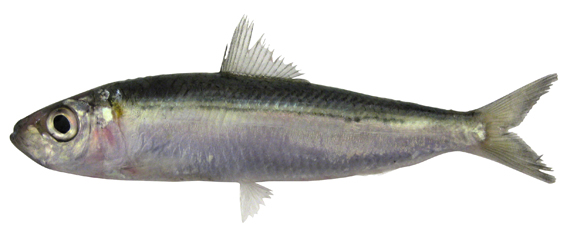fish: (10, 13, 560, 223)
